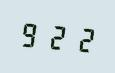nine: (18, 16, 42, 51)
two: (44, 18, 68, 53), (69, 21, 93, 56)
